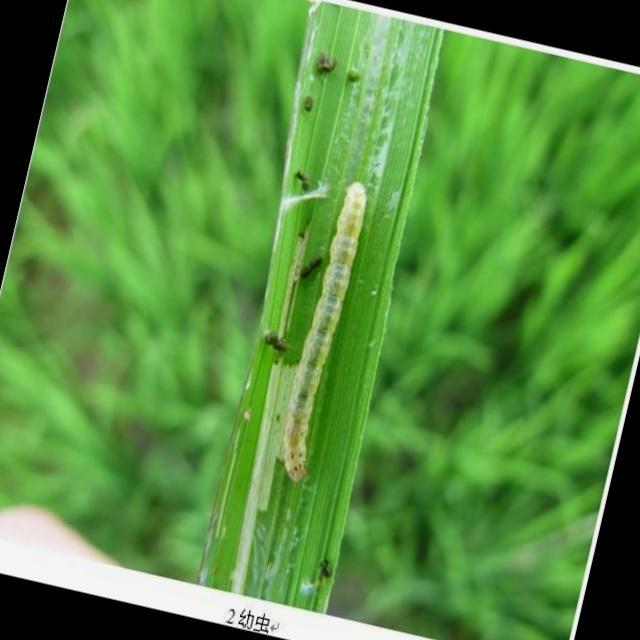leaf folder: (280, 182, 366, 480)
